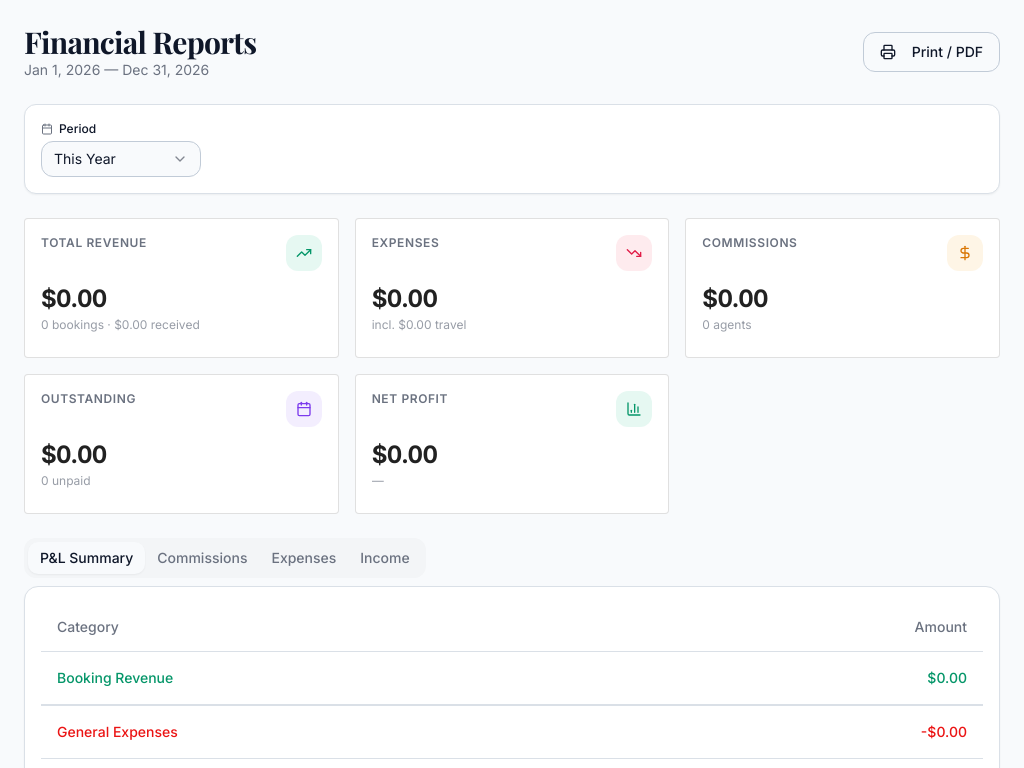
Test: Finance › shows custom date inputs when the Custom Range preset is chosen
Expected: the text "Total Revenue" is shown, [41, 235, 147, 251]
Step 1. Click the dropdown → (121, 159), box [41, 141, 201, 177]
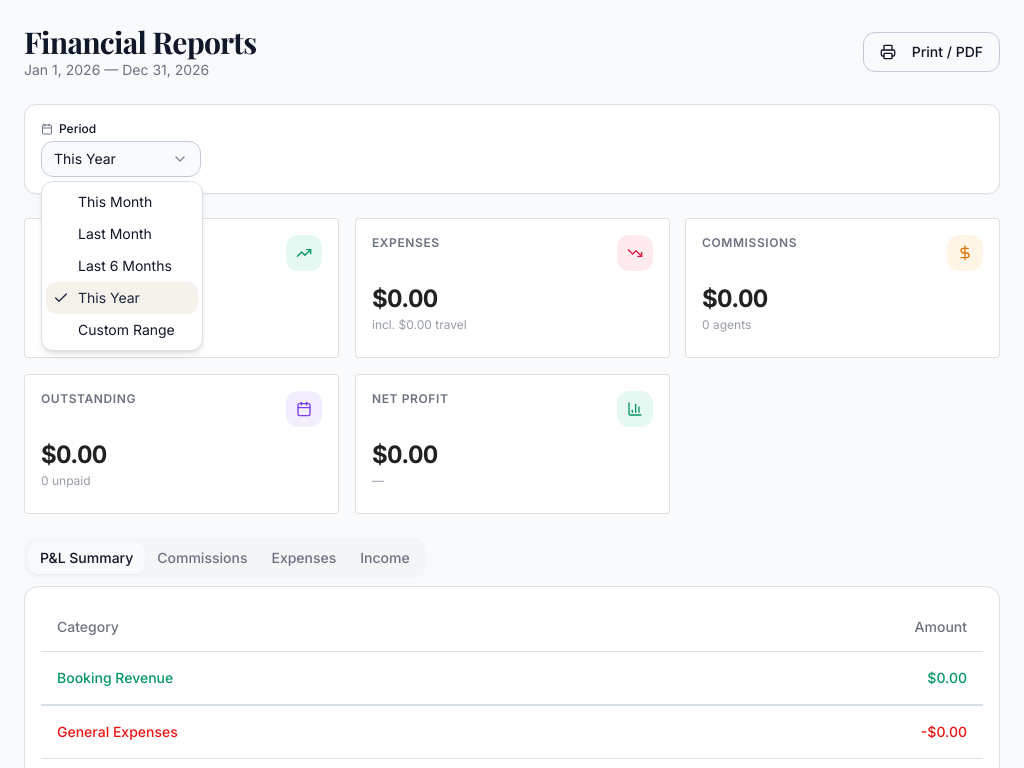
Step 2. Click the option "Custom Range" → (126, 330), box [78, 321, 175, 338]
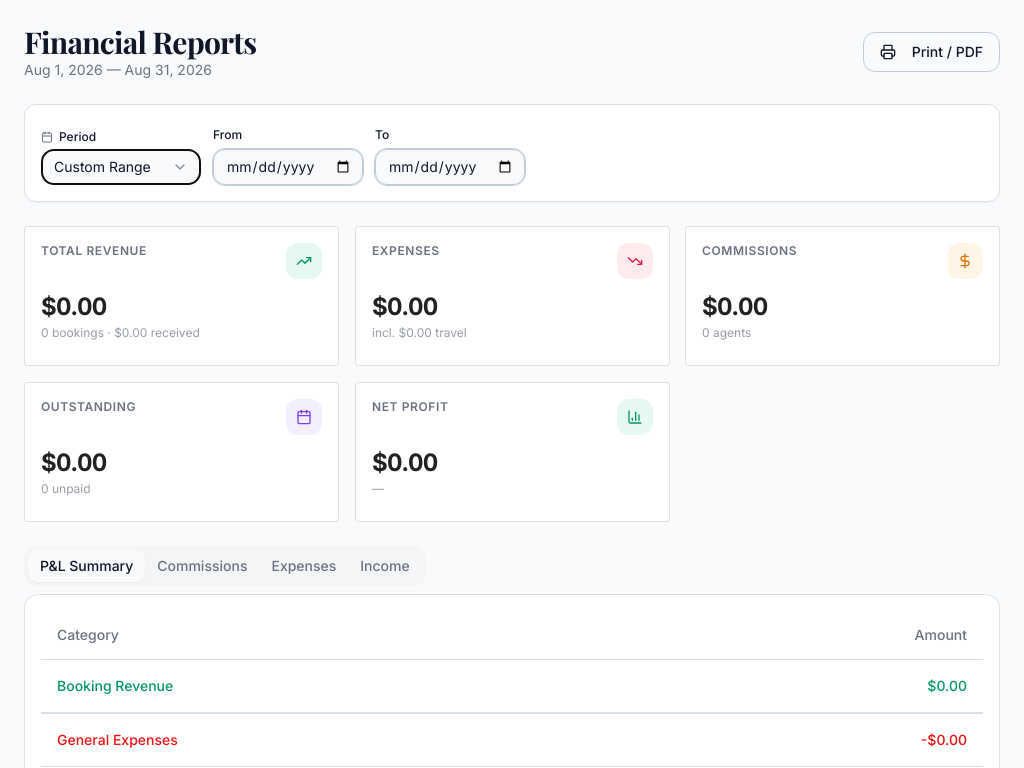
Now the date field labelled "From" is shown, box [213, 149, 363, 185]
Now the date field labelled "To" is shown, box [375, 149, 525, 185]
